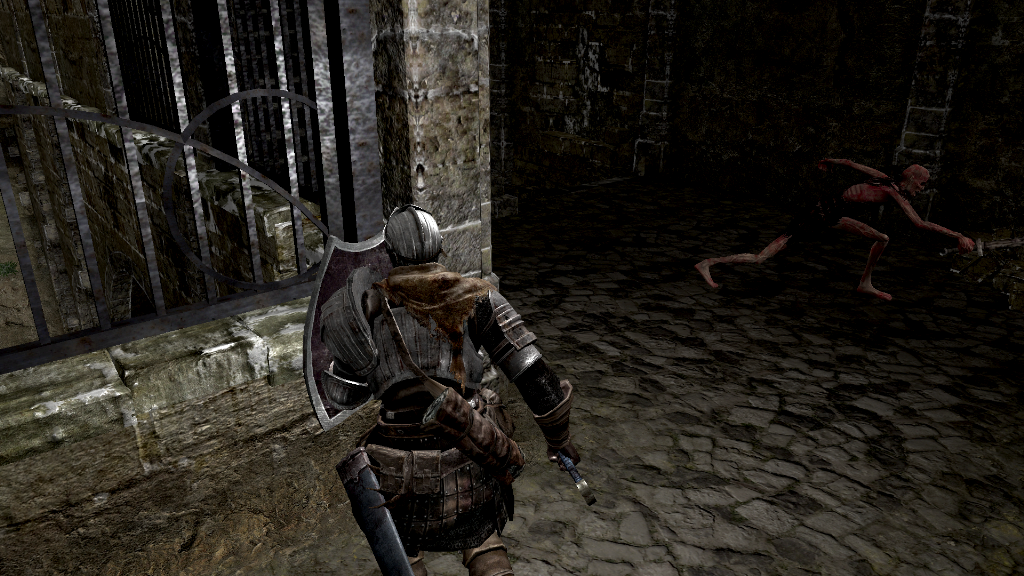hollow: (695, 154, 975, 302)
player: (302, 205, 599, 576)
